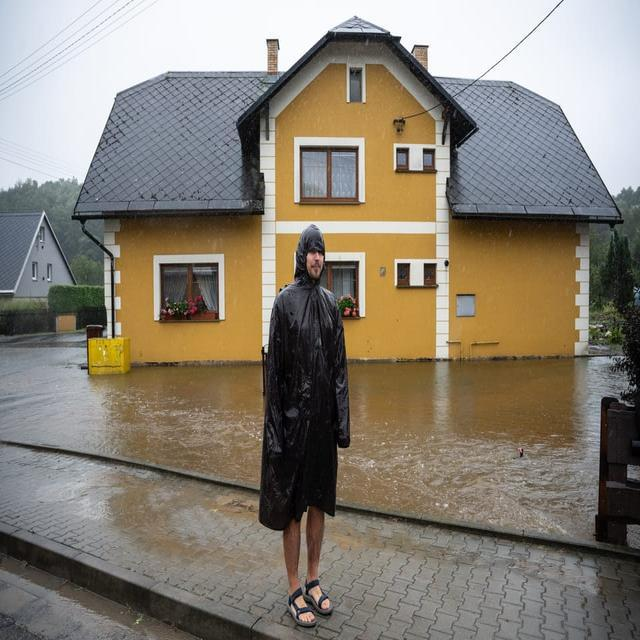Person-RiskLevel1: (264, 224, 355, 631)
